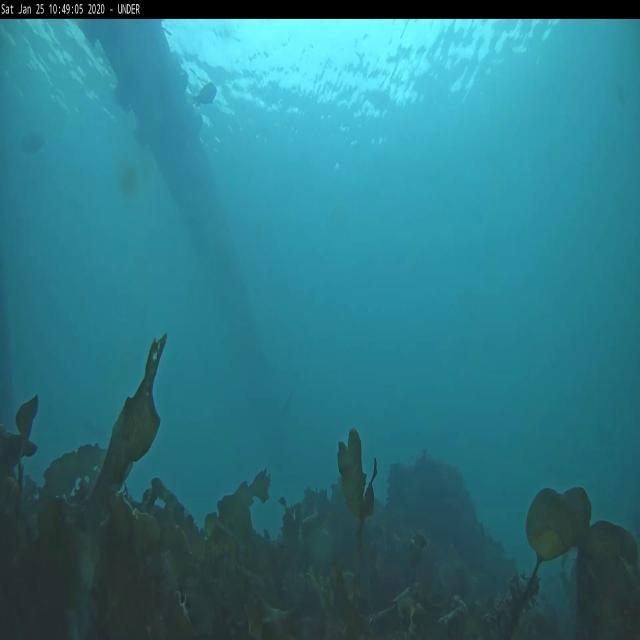fish: (18, 126, 44, 170), (194, 82, 215, 104)
